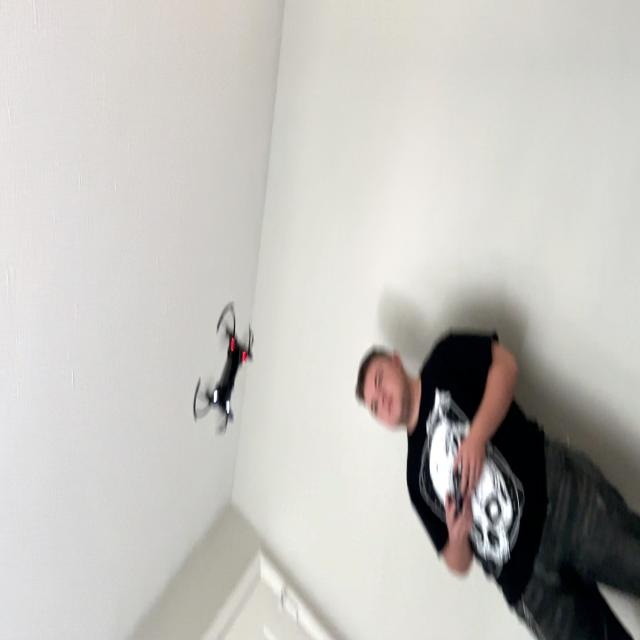drone: (188, 285, 262, 453)
